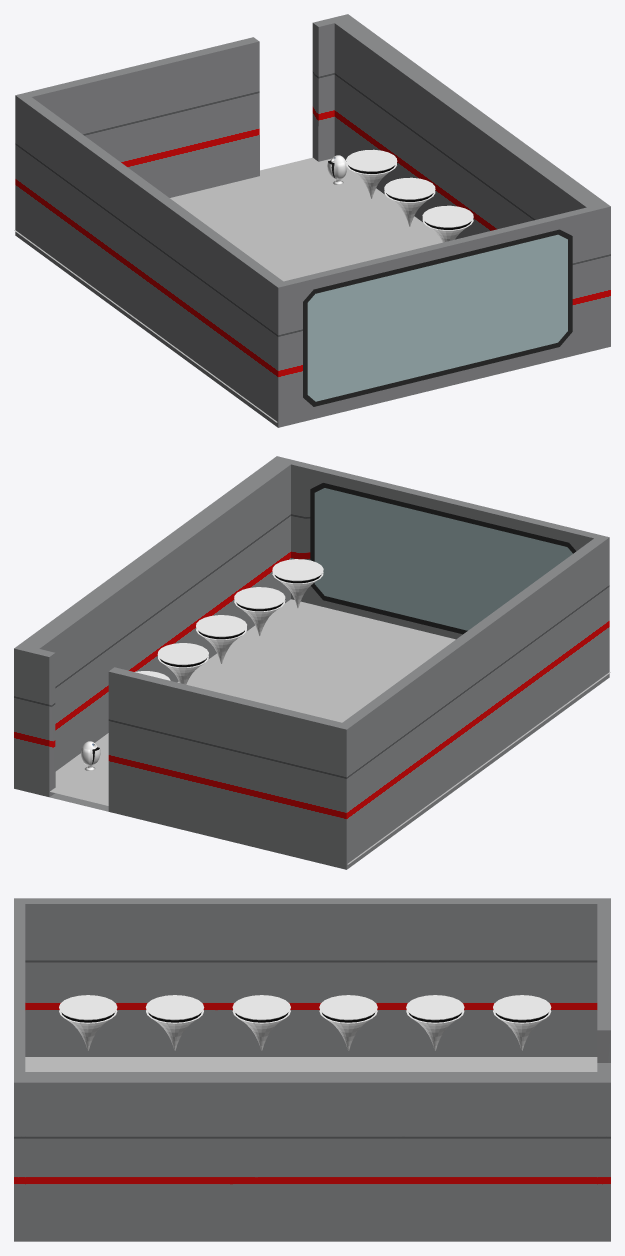
Rendered from salle td.FBX.
3 views of the same model, one above another, from view 1: azimuth 30°, elevation 25°; view 2: azimuth 150°, elevation 25°; view 3: azimuth 270°, elevation 25° (orthographic). The views are drawn at different scales.
Visible parts, largest first — view 1: Plane002, Plane003, Cylinder010, Cylinder011, Cylinder009; view 2: Plane002, Plane003, Cylinder008, Cylinder007, Cylinder009, Cylinder010; view 3: Plane002, Plane003, Cylinder002, Cylinder005, Cylinder006, Cylinder004, Cylinder001, Cylinder003.
Boxes of the visible parts, x1,y1,x2,y2 form: Plane002: (15, 14, 610, 427); Plane003: (14, 157, 442, 422); Cylinder010: (384, 177, 435, 226); Cylinder011: (346, 149, 397, 198); Cylinder009: (422, 205, 473, 242); Plane002: (14, 456, 609, 869); Plane003: (50, 599, 610, 864); Cylinder008: (234, 587, 285, 635); Cylinder007: (272, 559, 323, 607); Cylinder009: (196, 615, 246, 663); Cylinder010: (157, 643, 208, 684); Plane002: (14, 898, 610, 1241); Plane003: (25, 1057, 597, 1071); Cylinder002: (145, 995, 204, 1050); Cylinder005: (406, 995, 464, 1050); Cylinder006: (493, 995, 551, 1050); Cylinder004: (319, 995, 377, 1050); Cylinder001: (59, 995, 117, 1050); Cylinder003: (232, 995, 290, 1050).
Size of the model in its own units: 467 by 188 by 637.
